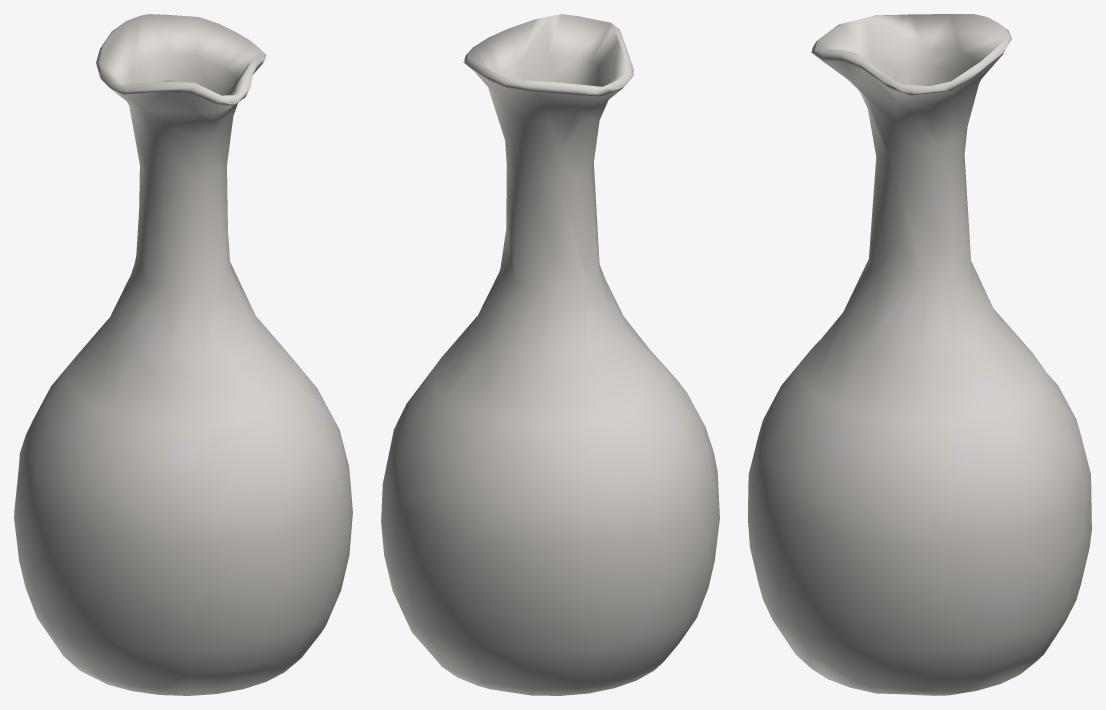
Rendered from ceramic_vase_01.glb.
3 views of the same model, side by side, from view 1: azimuth 30°, elevation 25°; view 2: azimuth 150°, elevation 25°; view 3: azimuth 270°, elevation 25° (orthographic). The views are drawn at different scales.
Visible parts, largest first — view 1: ceramic_vase_01; view 2: ceramic_vase_01; view 3: ceramic_vase_01.
Part boxes in pixels (left/top/right/bottom): ceramic_vase_01: left=14, top=14, right=352, bottom=695; ceramic_vase_01: left=381, top=14, right=719, bottom=695; ceramic_vase_01: left=748, top=14, right=1091, bottom=695.
Bounding box in the file's own units: 0.2022 × 0.4003 × 0.2024.
Materials: 1 (1 with a texture image).
